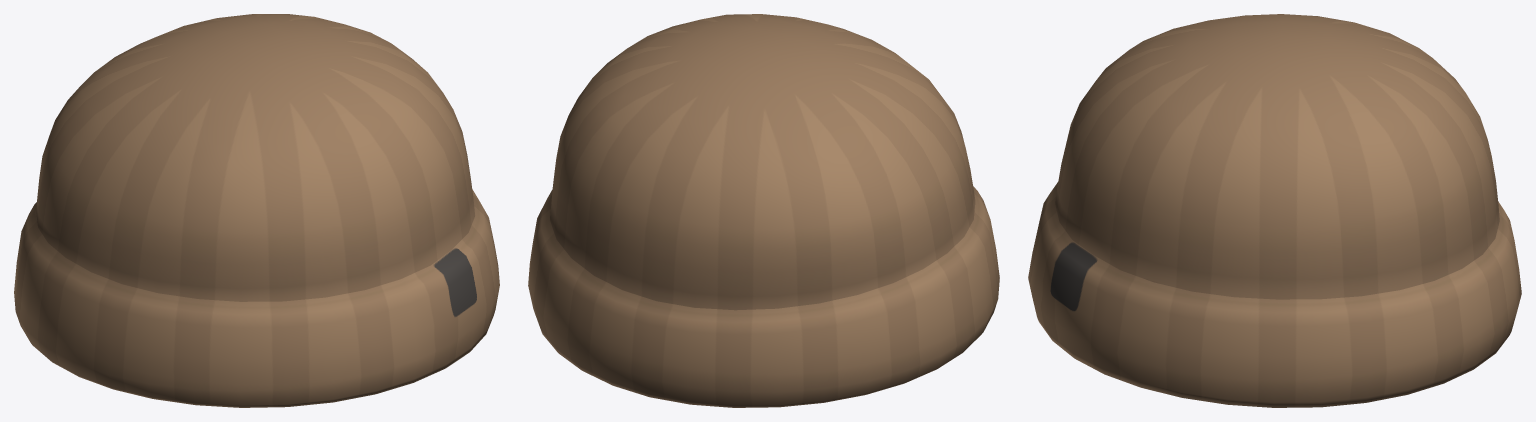
File: Beanie.fbx
3 views of the same model, side by side, from view 1: azimuth 30°, elevation 25°; view 2: azimuth 150°, elevation 25°; view 3: azimuth 270°, elevation 25° (orthographic). The views are drawn at different scales.
Parts seen in each view (by area): view 1: Beanie; view 2: Beanie; view 3: Beanie.
Boxes of the visible parts, x1,y1,x2,y2 form: Beanie: (14,14,499,407); Beanie: (528,14,999,407); Beanie: (1028,14,1521,407).
Size of the model in its own units: 30.8 by 19.13 by 30.81.
